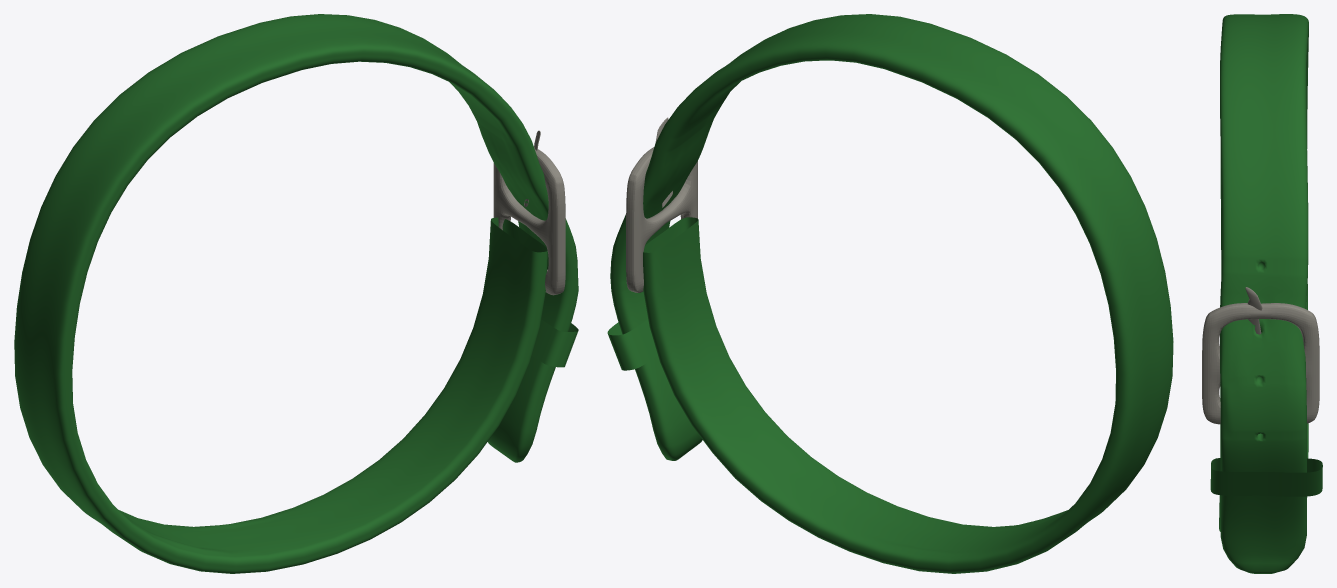
File: Cinturon_Verde.fbx
The picture shows the model from 3 angles, left to right: view 1: azimuth 30°, elevation 25°; view 2: azimuth 150°, elevation 25°; view 3: azimuth 270°, elevation 25°; orthographic projection. The views are drawn at different scales.
Visible parts, largest first — view 1: Correa, Hebilla; view 2: Correa, Hebilla; view 3: Correa, Hebilla, Circle.
Part boxes in pixels (x1,y1,x2,y2): Correa: (14,14,578,573); Hebilla: (493,147,565,295); Correa: (607,14,1173,573); Hebilla: (626,147,697,292); Correa: (1210,14,1322,573); Hebilla: (1202,303,1319,424); Circle: (1245,287,1262,334).
Size of the model in its own units: 218 by 204 by 47.64.
